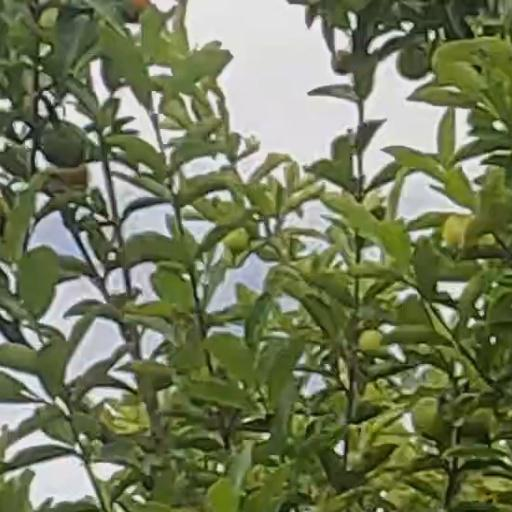acerola_verde: (44, 121, 84, 166), (413, 398, 449, 438)
